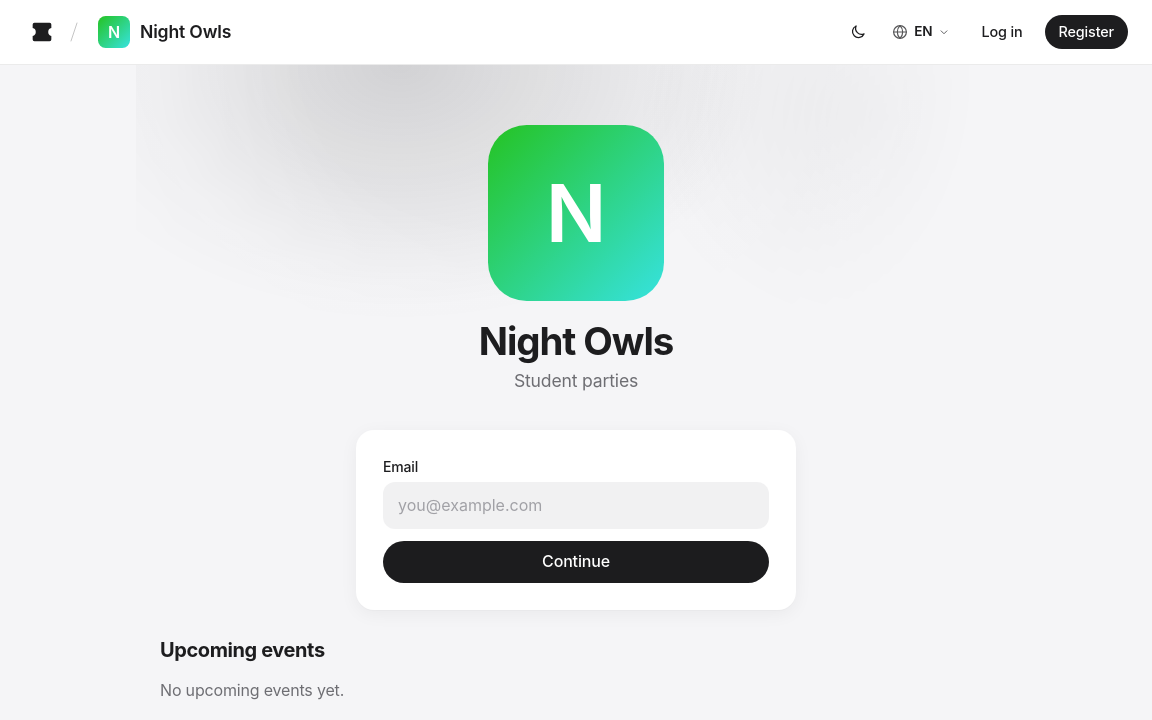
public organisation routes › asks a visitor for their email and takes someone with an account to their password
Type " gijs@example.com " into the field labelled "Email".
click(576, 505); type(" gijs@example.com ")  # box [383,482,769,529]
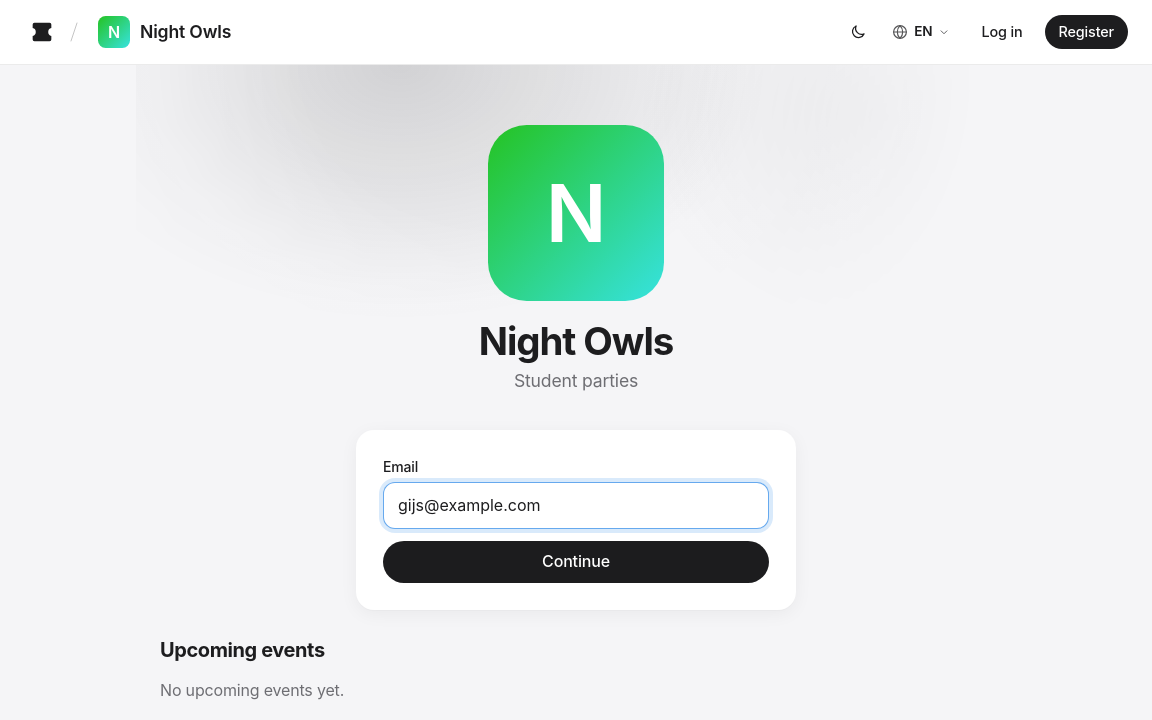
Click the button "Continue".
click(576, 562)  # box [383,541,769,583]
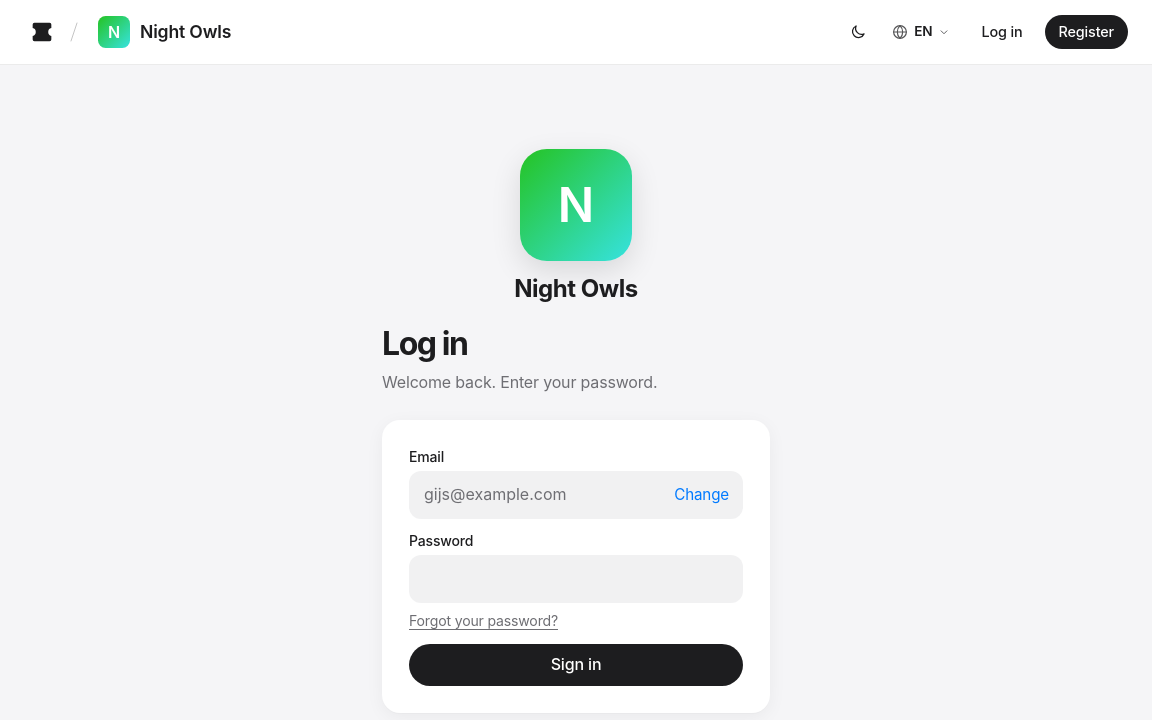
Expected: the heading "Log in" is shown, [382,324,468,363]
Expected: the text "Welcome back. Enter your password." is shown, [382,372,657,392]
Expected: the field labelled "Email" holds "gijs@example.com", [409,471,743,519]
